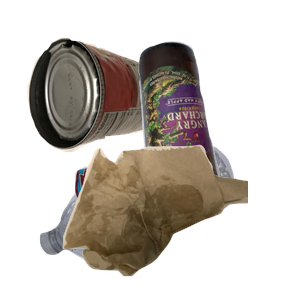glass: (136, 39, 300, 219)
metal: (25, 35, 189, 180)
plastic: (37, 144, 265, 300)
trash: (60, 142, 300, 300)
